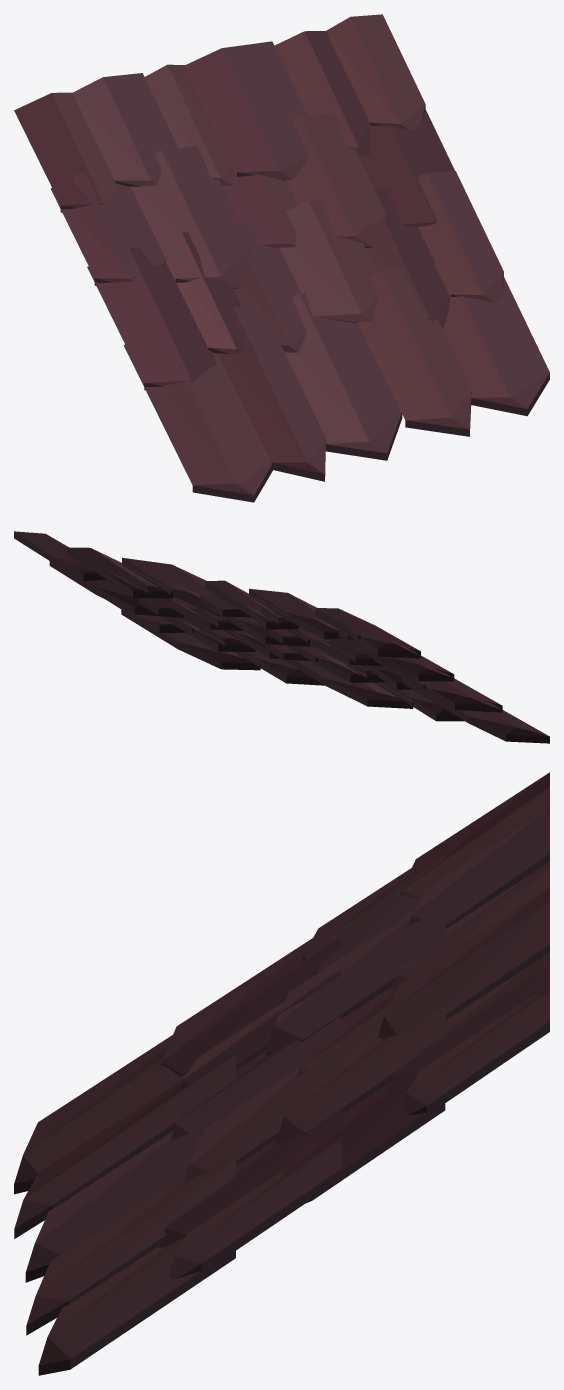
The model's file is fitted_shakes.glb.
3 renders of one model, top to bottom at view 1: azimuth 30°, elevation 25°; view 2: azimuth 150°, elevation 25°; view 3: azimuth 270°, elevation 25°, orthographic. The views are drawn at different scales.
Visible parts, largest first — view 1: fitted_shakes; view 2: fitted_shakes; view 3: fitted_shakes.
Part boxes in pixels (x1,y1,x2,y2): fitted_shakes: [14, 14, 549, 502]; fitted_shakes: [14, 531, 549, 743]; fitted_shakes: [14, 772, 549, 1375].
Size of the model in its own units: 2.04 by 1.48 by 1.79.
